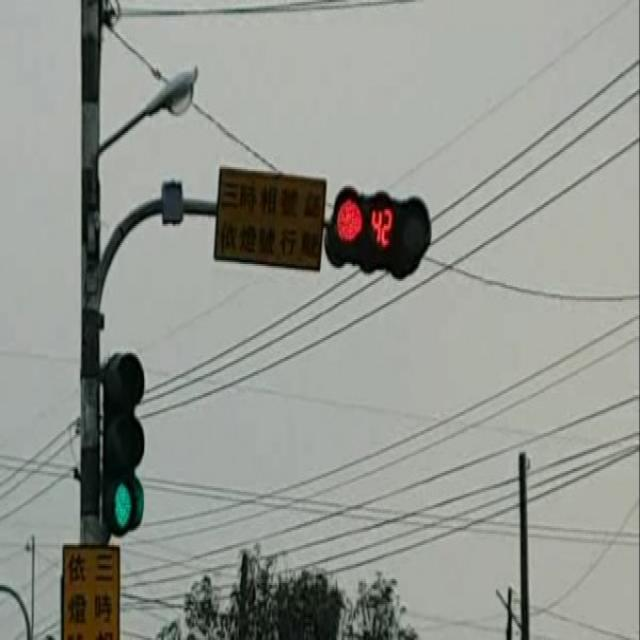green light: (104, 350, 146, 538)
red light: (326, 186, 430, 282)
